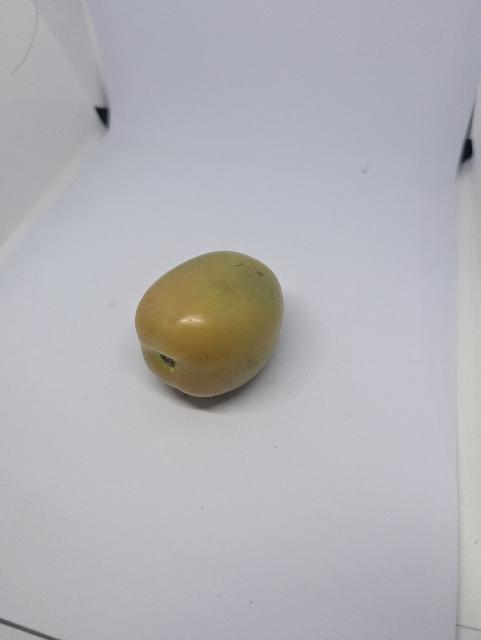breaker: (130, 243, 290, 400)
